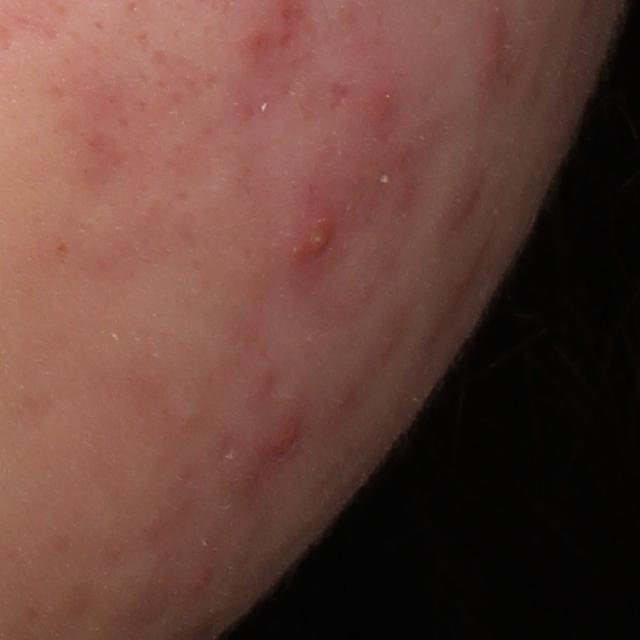comedo: (174, 394, 209, 433)
papule: (260, 409, 306, 461), (481, 16, 513, 80)
pustule: (290, 216, 342, 262)
